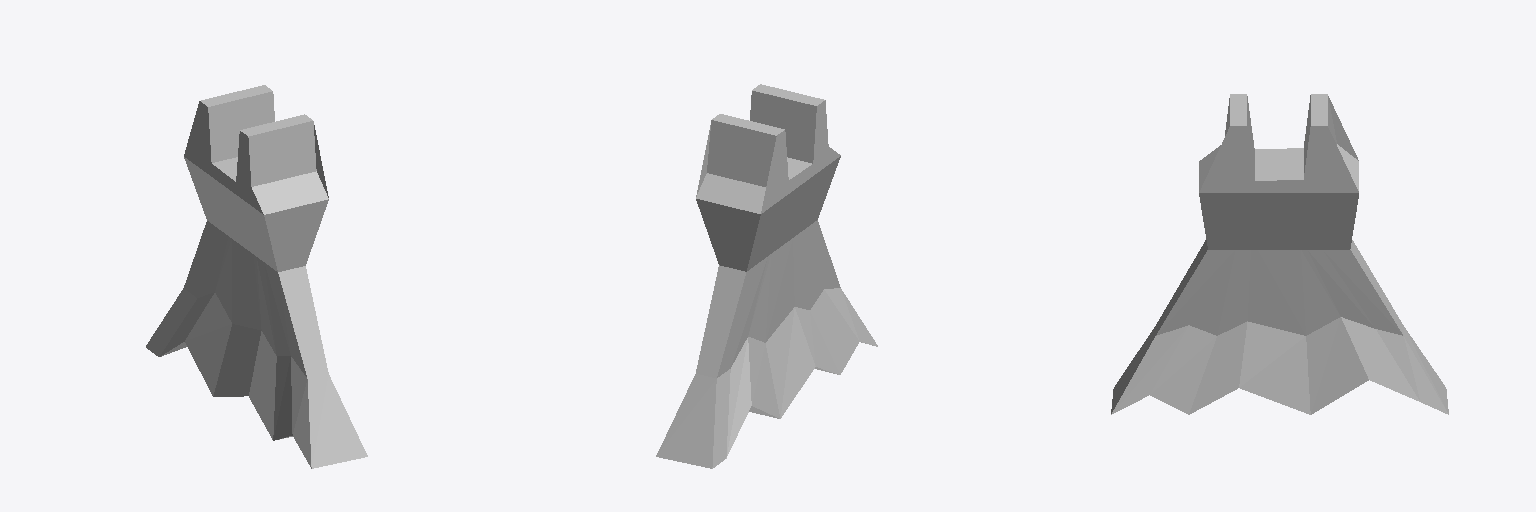
File: little_dress.obj
3 renders of one model, left to right at view 1: azimuth 30°, elevation 25°; view 2: azimuth 150°, elevation 25°; view 3: azimuth 270°, elevation 25°, orthographic.
Visible parts, largest first — view 1: little_dress; view 2: little_dress; view 3: little_dress.
Boxes of the visible parts, x1=… form: little_dress: x1=146, y1=85, x2=367, y2=468; little_dress: x1=656, y1=84, x2=877, y2=468; little_dress: x1=1111, y1=94, x2=1448, y2=414.
Size of the model in its own units: 2.81 by 12.01 by 12.64.